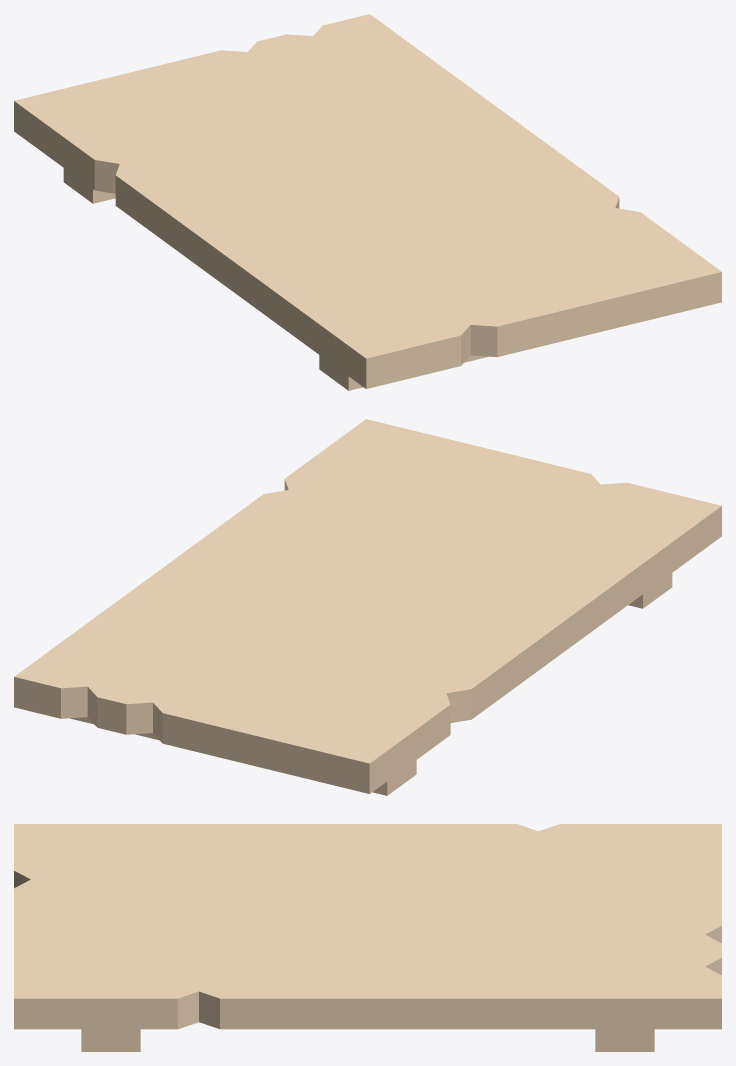
The picture shows the model from 3 angles, top to bottom: view 1: azimuth 30°, elevation 25°; view 2: azimuth 150°, elevation 25°; view 3: azimuth 270°, elevation 25°; orthographic projection.
Visible parts, largest first — view 1: cuttingBoardJapanese; view 2: cuttingBoardJapanese; view 3: cuttingBoardJapanese.
Part boxes in pixels (x1,y1,x2,y2): cuttingBoardJapanese: (14, 14, 721, 390); cuttingBoardJapanese: (14, 419, 721, 795); cuttingBoardJapanese: (14, 824, 721, 1051).
Size of the model in its own units: 0.49 by 0.08 by 0.84.
